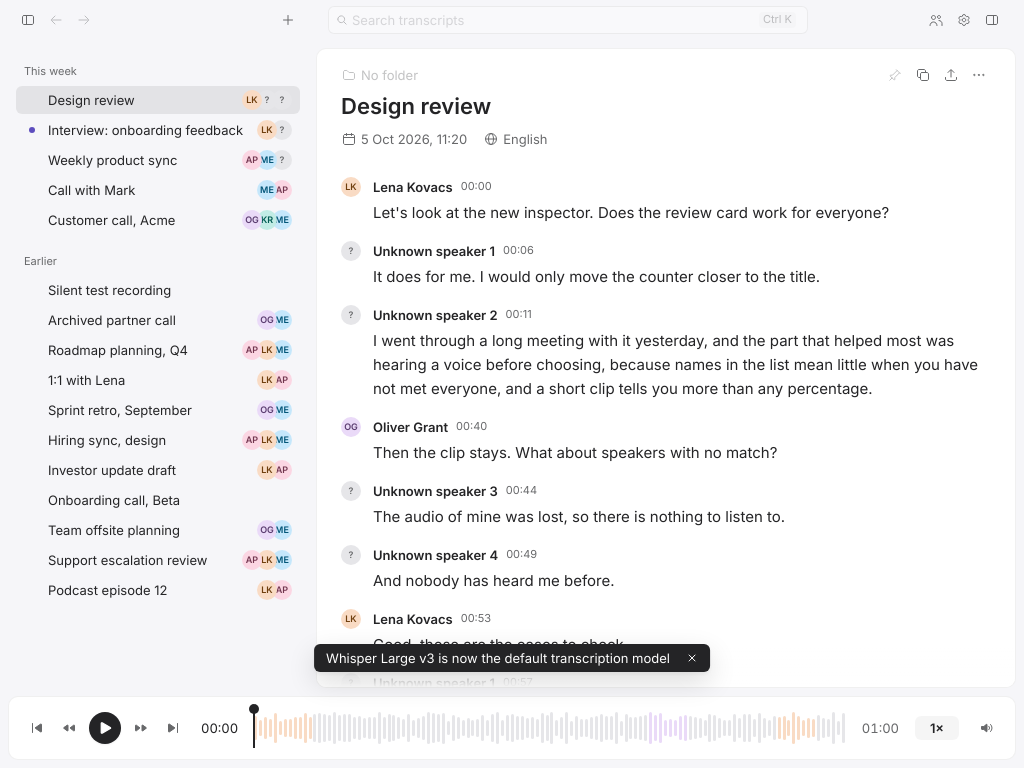
Scenario: Escape and the close button close it
Click the button named "Settings": x=964, y=20 [952,8,976,32]
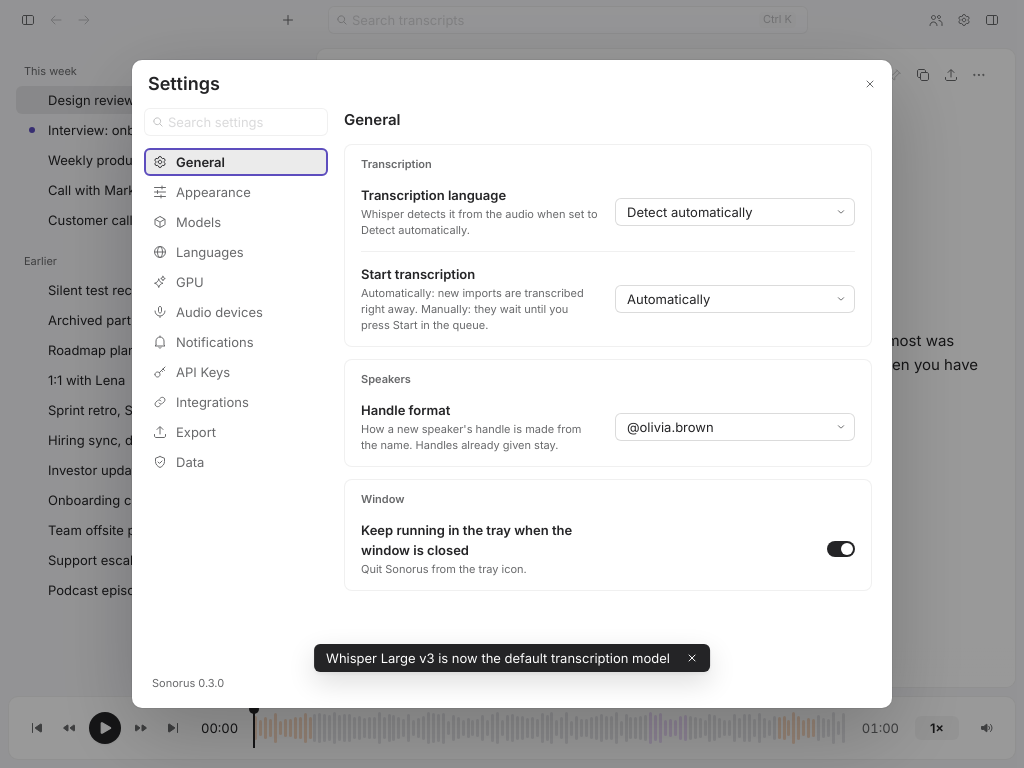
Press Escape
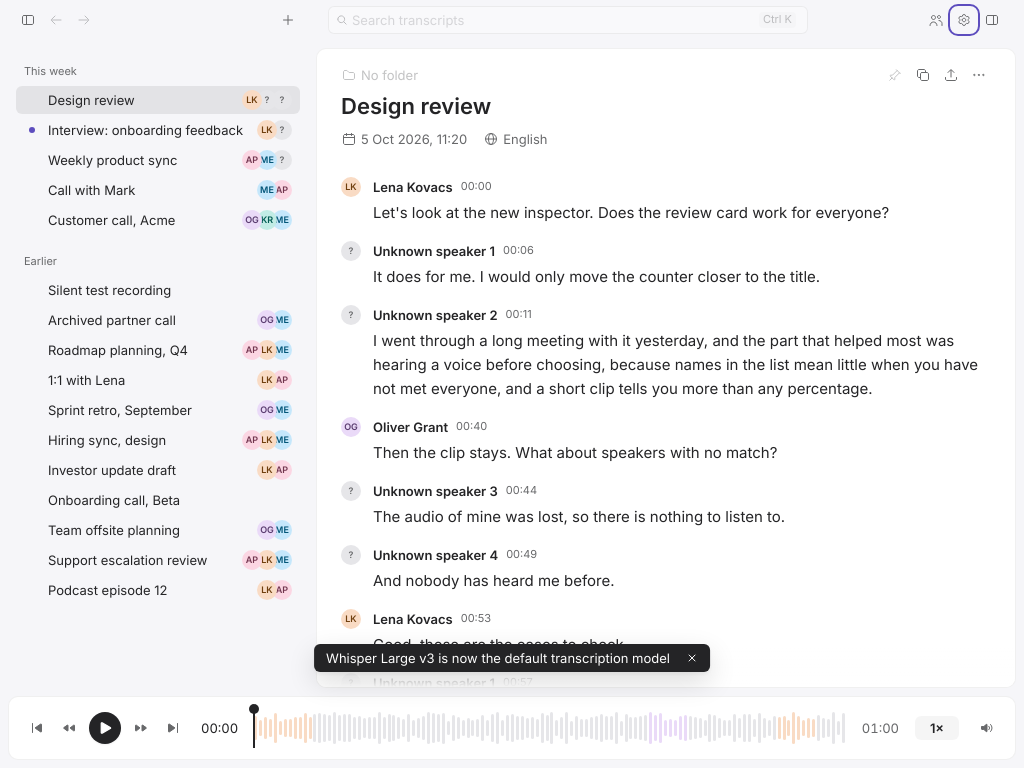
Now the heading labelled "Settings" is gone
Click the button named "Settings": x=964, y=20 [952,8,976,32]
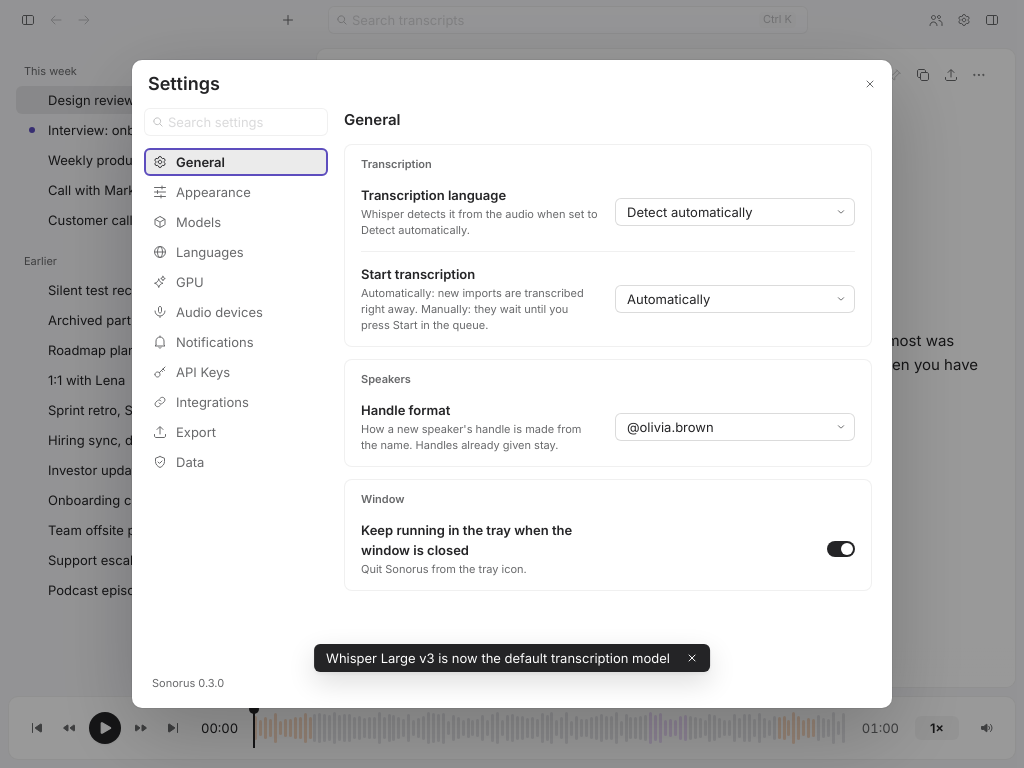
Click the button named "Close" in the row of "Settings": x=870, y=84 [860,74,880,94]
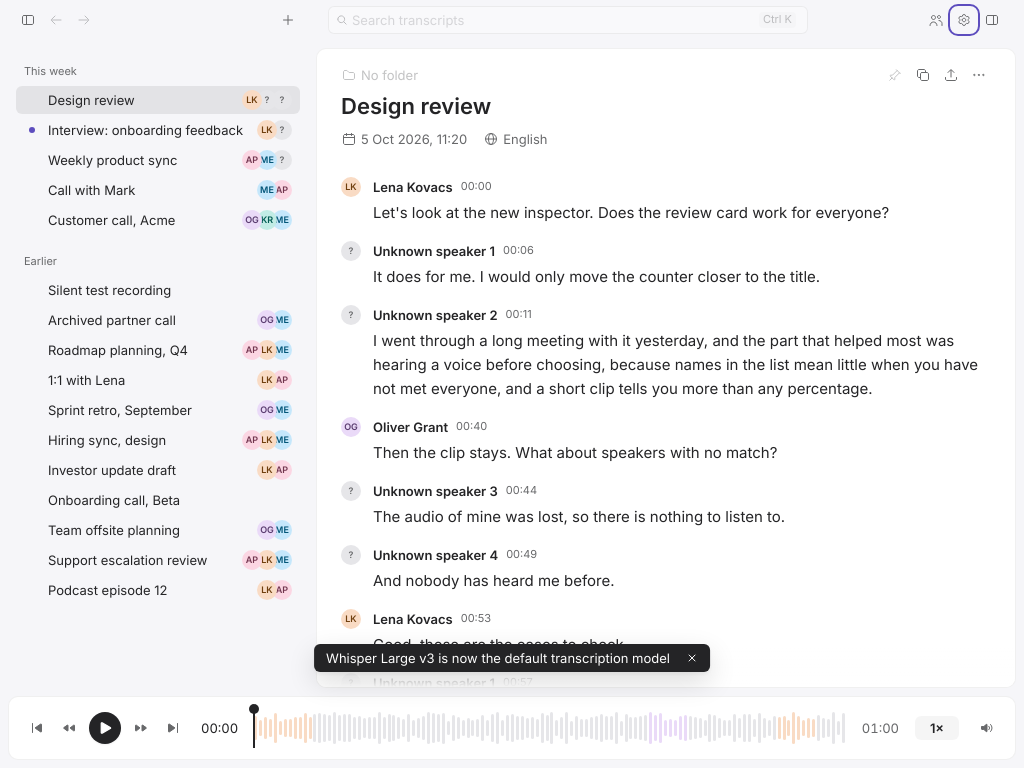
Now the heading labelled "Settings" is gone
